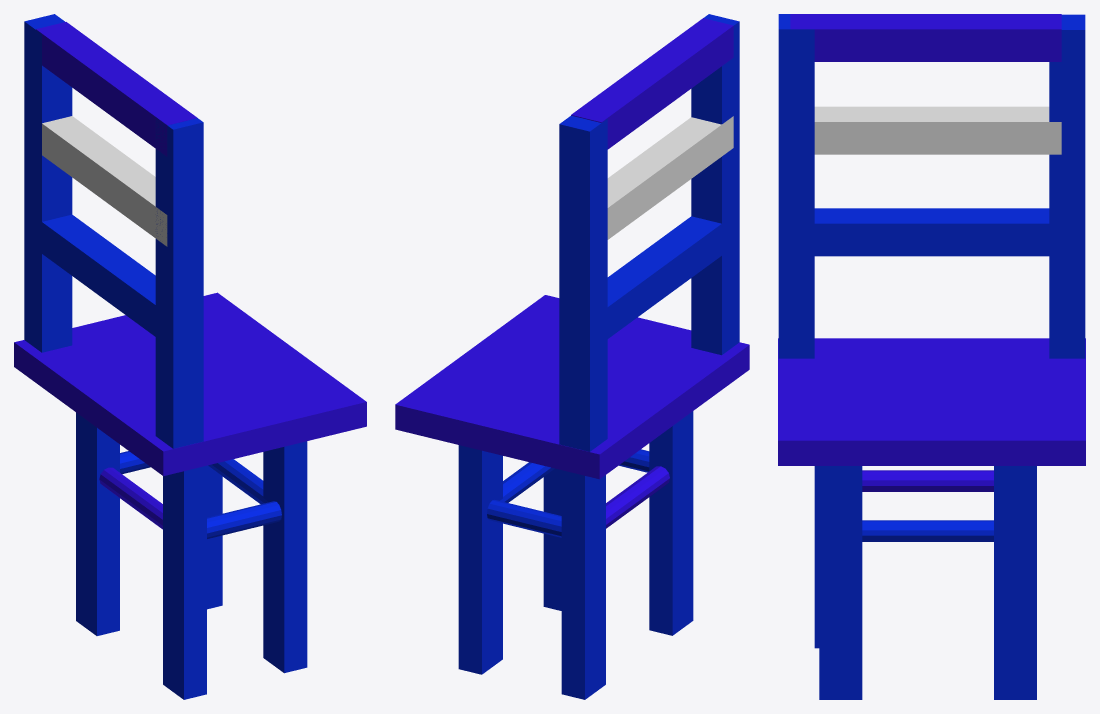
File: Blumenkranc_Agustin_48214441.fbx
The picture shows the model from 3 angles, left to right: view 1: azimuth 30°, elevation 25°; view 2: azimuth 150°, elevation 25°; view 3: azimuth 270°, elevation 25°; orthographic projection. The views are drawn at different scales.
Parts seen in each view (by area): view 1: Cube.004, Cube.005, Cube.006, Cube, Cube.003, Cube.001, Cube.010, Cube.008, Cube.007, Cube.002, Cylinder, Cylinder.004 (+1 smaller); view 2: Cube.004, Cube.006, Cube.005, Cube.001, Cube.002, Cube, Cube.010, Cube.007, Cube.008, Cube.003, Cylinder.001, Cylinder.004 (+1 smaller); view 3: Cube.004, Cube.005, Cube.010, Cube.007, Cube.008, Cube.006, Cube.003, Cube.002, Cylinder.003, Cylinder.004, Cube.
Boxes of the visible parts, x1,y1,x2,y2 form: Cube.004: [14, 292, 366, 475]; Cube.005: [155, 117, 203, 448]; Cube.006: [24, 14, 72, 352]; Cube: [163, 465, 206, 699]; Cube.003: [263, 441, 307, 673]; Cube.001: [76, 412, 119, 635]; Cube.010: [36, 22, 197, 156]; Cube.008: [42, 116, 167, 246]; Cube.007: [42, 214, 167, 344]; Cube.002: [207, 465, 222, 609]; Cylinder: [207, 501, 281, 538]; Cylinder.004: [99, 467, 162, 529]; Cube.004: [395, 295, 749, 479]; Cube.006: [559, 115, 607, 451]; Cube.005: [691, 14, 739, 355]; Cube.001: [561, 470, 605, 699]; Cube.002: [458, 445, 502, 674]; Cube: [649, 411, 693, 635]; Cube.010: [571, 18, 733, 149]; Cube.007: [607, 215, 733, 338]; Cube.008: [607, 116, 733, 239]; Cube.003: [543, 468, 561, 610]; Cylinder.001: [487, 500, 561, 537]; Cylinder.004: [606, 466, 669, 528]; Cube.004: [778, 338, 1085, 465]; Cube.005: [778, 14, 814, 358]; Cube.010: [790, 14, 1061, 61]; Cube.007: [814, 208, 1061, 256]; Cube.008: [814, 106, 1061, 154]; Cube.006: [1049, 14, 1085, 358]; Cube.003: [819, 466, 862, 699]; Cube.002: [994, 466, 1036, 699]; Cylinder.003: [862, 520, 993, 541]; Cylinder.004: [862, 470, 993, 491]; Cube: [814, 466, 819, 648].
Bounding box in the file's own units: 378 × 1048 × 480.
